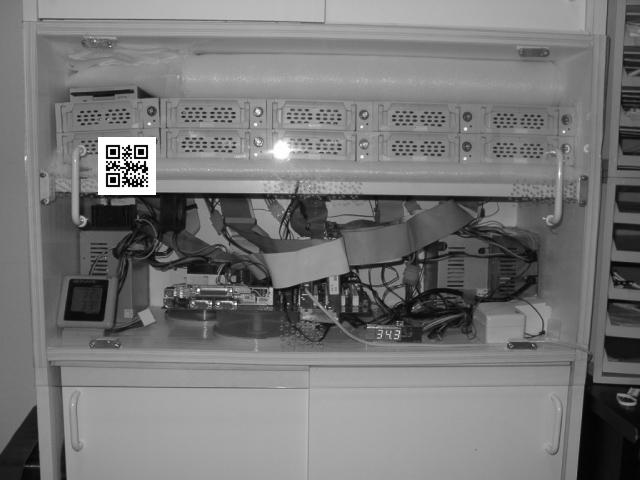qr_code: (98, 138, 157, 196)
